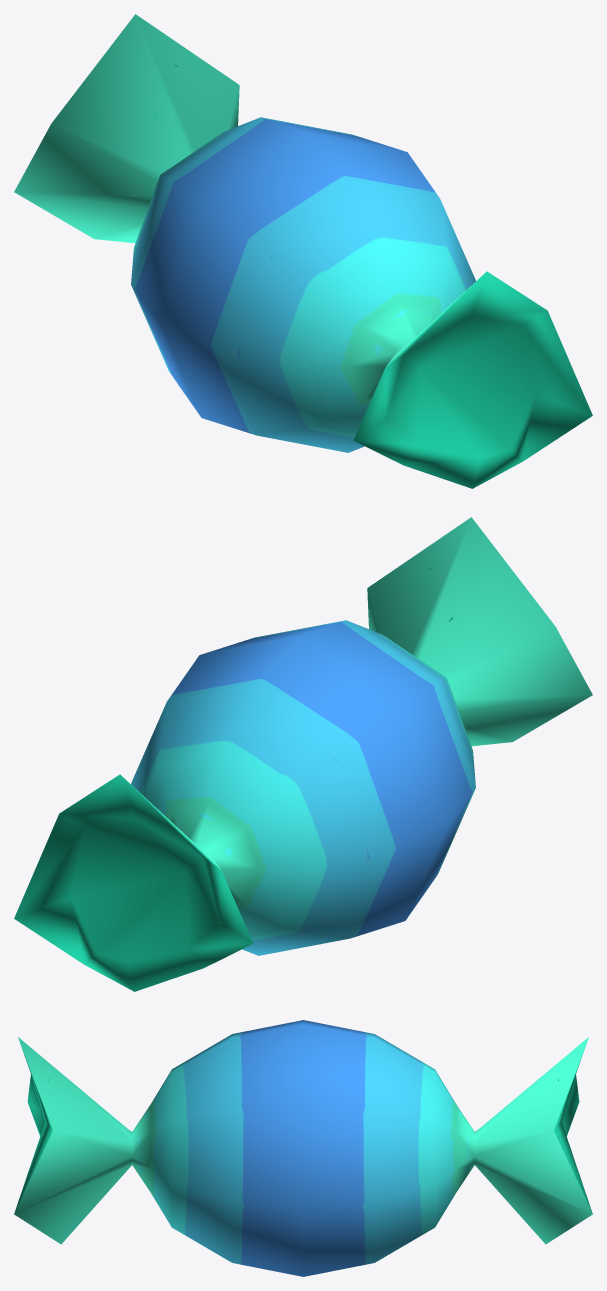
File: candy.fbx
3 renders of one model, top to bottom at view 1: azimuth 30°, elevation 25°; view 2: azimuth 150°, elevation 25°; view 3: azimuth 270°, elevation 25°, orthographic. The views are drawn at different scales.
Visible parts, largest first — view 1: candy.003; view 2: candy.003; view 3: candy.003.
Boxes of the visible parts, box(x1,y1,x2,y2) form: candy.003: box(14, 14, 592, 488); candy.003: box(14, 517, 592, 991); candy.003: box(14, 1020, 592, 1276).
Size of the model in its own units: 15.46 by 15.46 by 32.73.
Materials: 1 (1 with a texture image).
